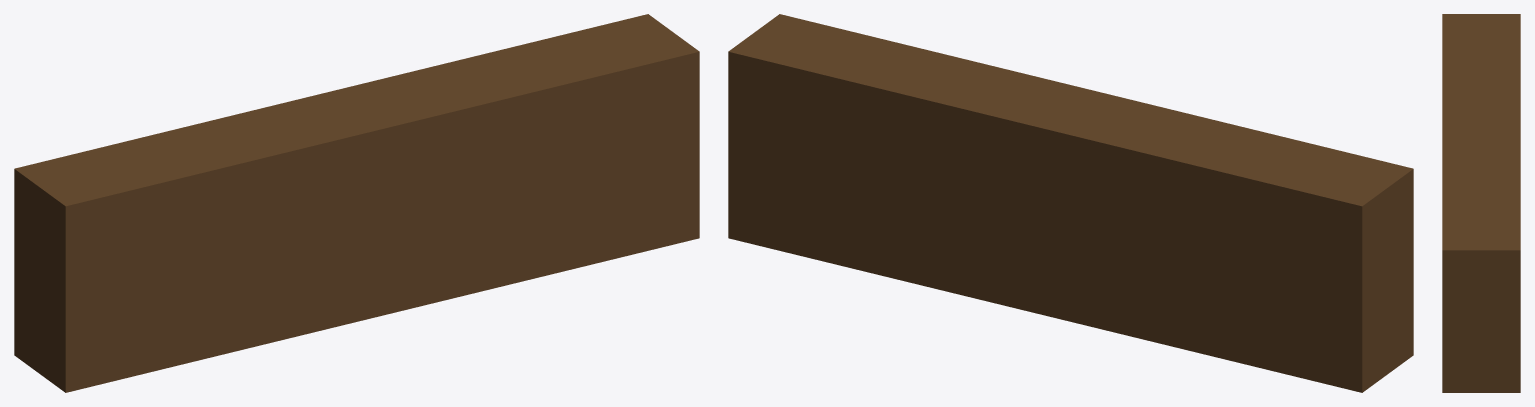
The model's file is pipe shotgun wooden stock.glb.
3 views of the same model, side by side, from view 1: azimuth 30°, elevation 25°; view 2: azimuth 150°, elevation 25°; view 3: azimuth 270°, elevation 25° (orthographic). The views are drawn at different scales.
Visible parts, largest first — view 1: wooden stock; view 2: wooden stock; view 3: wooden stock.
Boxes of the visible parts, x1,y1,x2,y2 form: wooden stock: (14,14,699,392); wooden stock: (728,14,1413,392); wooden stock: (1442,14,1520,392).
Size of the model in its own units: 0.32 by 0.09 by 0.045.
